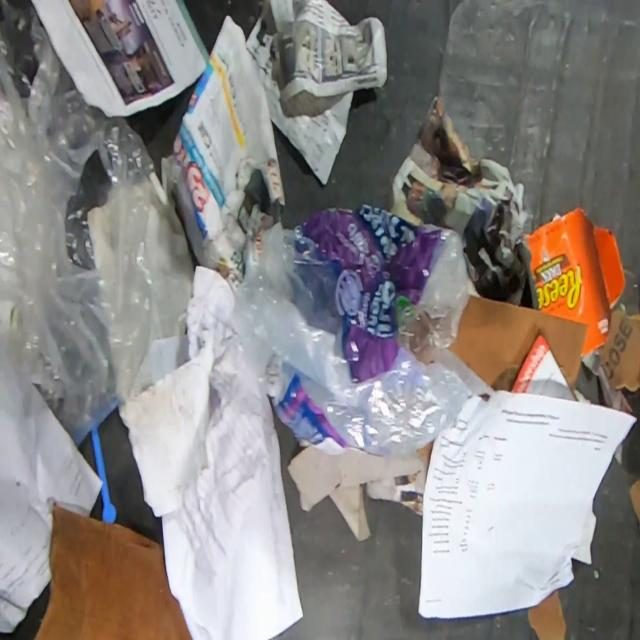cardboard: (31, 502, 194, 640), (523, 205, 625, 359), (448, 294, 588, 391), (526, 588, 567, 640), (627, 477, 640, 527)
soft_plastic: (0, 0, 194, 444), (232, 202, 483, 455)
